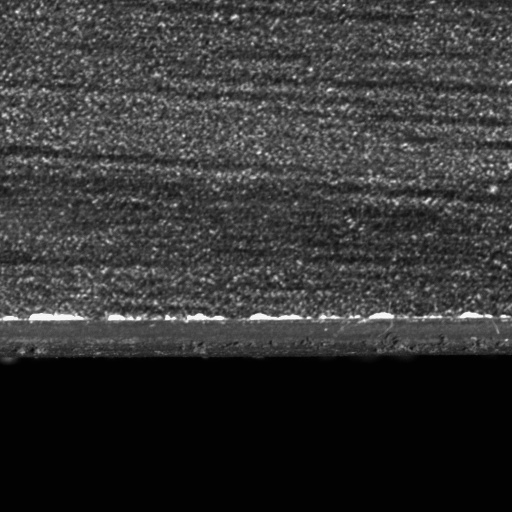huashang: (27, 312, 88, 324), (249, 312, 306, 321), (105, 312, 142, 323), (185, 312, 225, 322), (460, 310, 492, 320), (366, 311, 395, 321)
